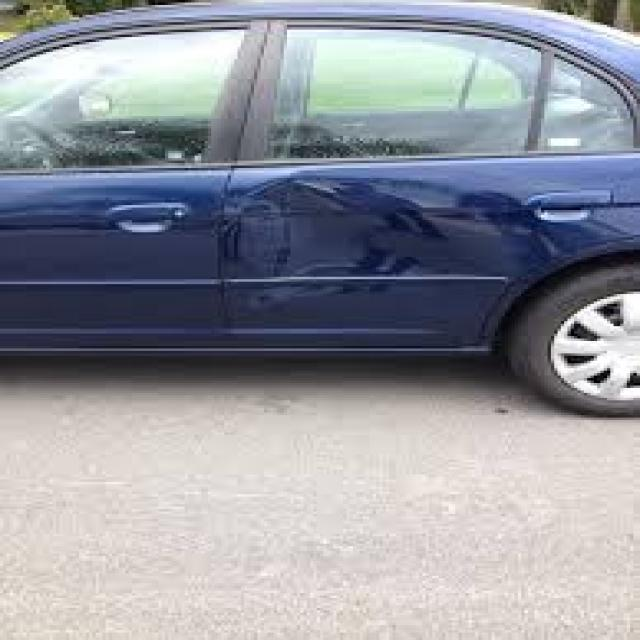minor: (218, 89, 530, 291)
